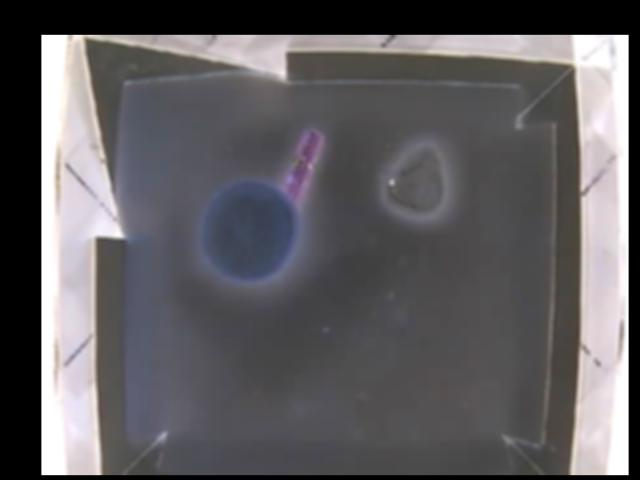Battery: (284, 129, 325, 208)
Mooli: (201, 177, 306, 288)
Pebble: (381, 137, 448, 221)
